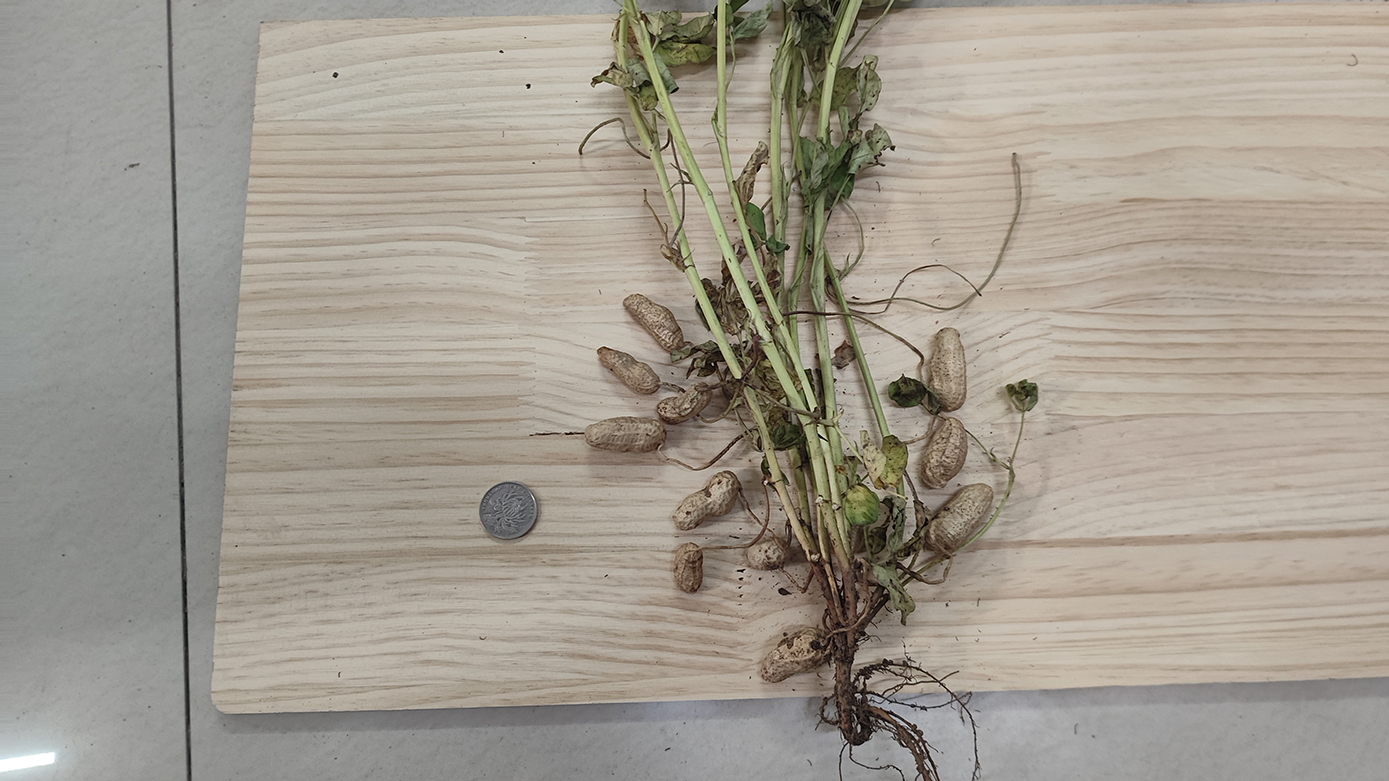h: (928, 482, 994, 554), (673, 469, 742, 531), (761, 629, 837, 682), (622, 292, 686, 354), (920, 418, 968, 491), (597, 345, 659, 395), (929, 327, 966, 410), (583, 418, 668, 454), (655, 380, 713, 423), (673, 543, 705, 593), (746, 540, 789, 569)
